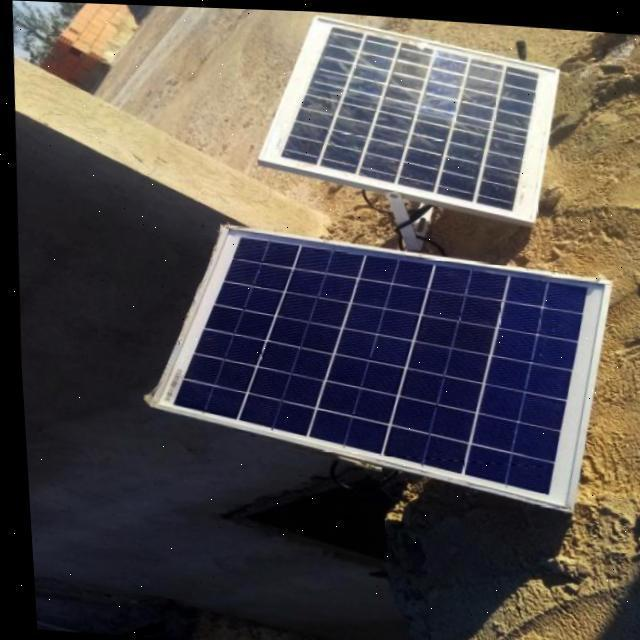Normal Solar Panel: (134, 218, 616, 510)
